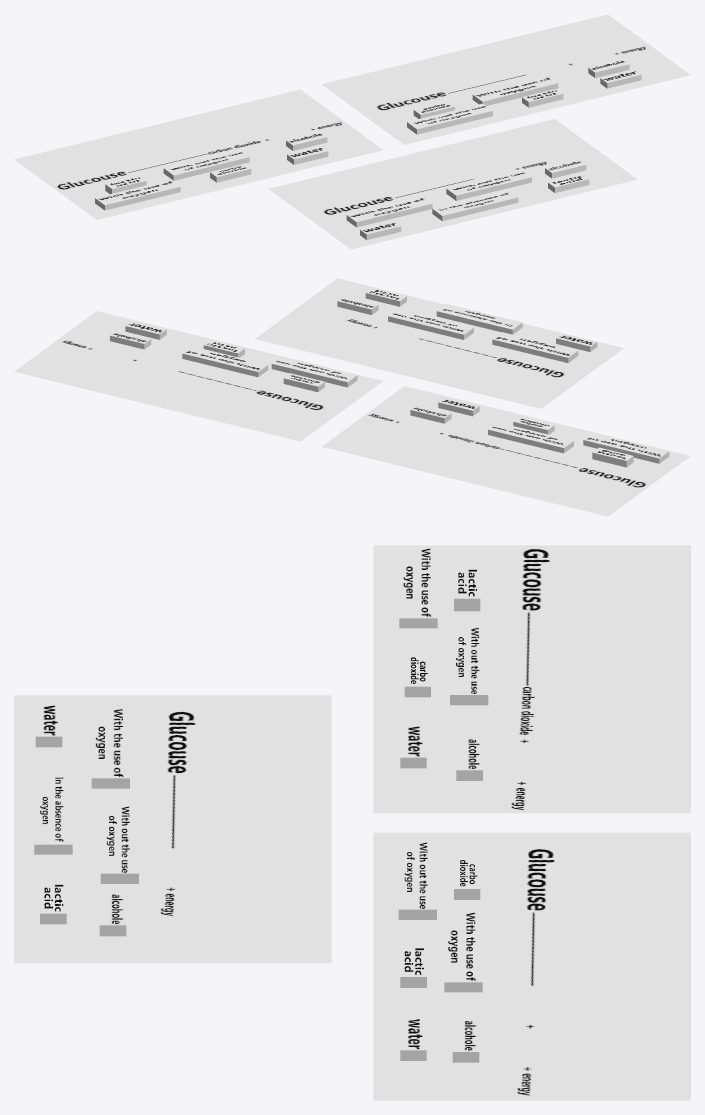
Rendered from level 2.fbx.
3 renders of one model, top to bottom at view 1: azimuth 30°, elevation 25°; view 2: azimuth 150°, elevation 25°; view 3: azimuth 270°, elevation 25°, orthographic. The views are drawn at different scales.
Visible parts, largest first — view 1: pPlane2, pPlane1, pPlane3, pCube5, pCube15, pCube9, pCube3, pCube2, pCube16, pCube8, pCube6, pCube12 (+9 smaller); view 2: pPlane2, pPlane1, pPlane3, pCube8, pCube15, pCube9, pCube5, pCube16, pCube3, pCube2, pCube17, pCube1 (+9 smaller); view 3: pPlane2, pPlane1, pPlane3, pCube2, pCube8, pCube5, pCube9, pCube16, pCube15, pCube3, pCube17, pCube10 (+9 smaller).
Part boxes in pixels (x1=…): pPlane2: x1=322, y1=14, x2=690, y2=144; pPlane1: x1=14, y1=89, x2=382, y2=219; pPlane3: x1=268, y1=119, x2=637, y2=249; pCube5: x1=432, y1=190, x2=518, y2=221; pCube15: x1=346, y1=196, x2=432, y2=227; pCube9: x1=163, y1=149, x2=249, y2=180; pCube3: x1=407, y1=103, x2=492, y2=134; pCube2: x1=95, y1=179, x2=180, y2=210; pCube16: x1=446, y1=170, x2=531, y2=200; pCube8: x1=472, y1=76, x2=558, y2=105; pCube6: x1=548, y1=174, x2=589, y2=192; pCube12: x1=600, y1=69, x2=641, y2=88; pPlane2: x1=14, y1=311, x2=382, y2=441; pPlane1: x1=322, y1=386, x2=690, y2=516; pPlane3: x1=255, y1=278, x2=623, y2=408; pCube8: x1=182, y1=346, x2=268, y2=377; pCube15: x1=492, y1=332, x2=578, y2=362; pCube9: x1=488, y1=422, x2=573, y2=453; pCube5: x1=436, y1=304, x2=522, y2=334; pCube16: x1=388, y1=309, x2=473, y2=339; pCube3: x1=271, y1=356, x2=357, y2=387; pCube2: x1=583, y1=432, x2=669, y2=463; pCube17: x1=592, y1=447, x2=633, y2=467; pCube1: x1=438, y1=397, x2=479, y2=416; pPlane2: x1=373, y1=832, x2=690, y2=1100; pPlane1: x1=373, y1=545, x2=690, y2=813; pPlane3: x1=14, y1=695, x2=331, y2=963; pCube2: x1=399, y1=547, x2=437, y2=628; pCube8: x1=444, y1=911, x2=482, y2=992; pCube5: x1=34, y1=773, x2=72, y2=854; pCube9: x1=450, y1=624, x2=488, y2=705; pCube16: x1=100, y1=802, x2=138, y2=883; pCube15: x1=91, y1=707, x2=129, y2=788; pCube3: x1=398, y1=839, x2=436, y2=919; pCube17: x1=454, y1=566, x2=480, y2=611; pCube10: x1=452, y1=1019, x2=479, y2=1062.
Bounding box in the file's own units: 1829 × 23.85 × 942.
5 materials, 5 textured.
